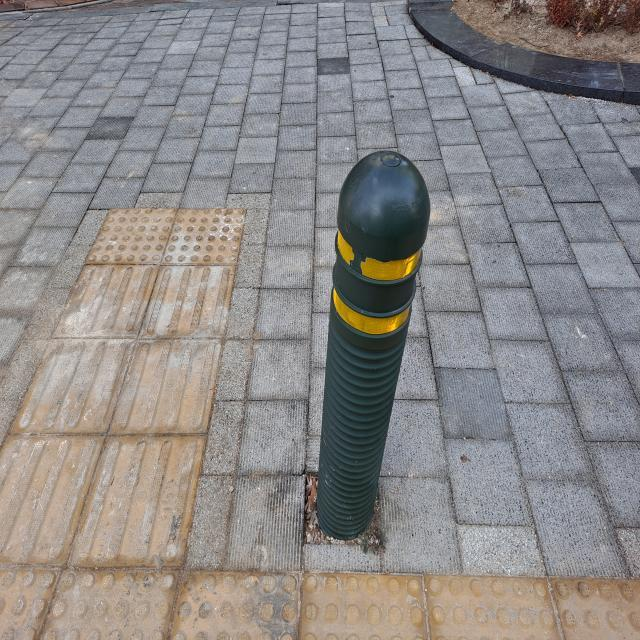pole: (316, 152, 429, 540)
